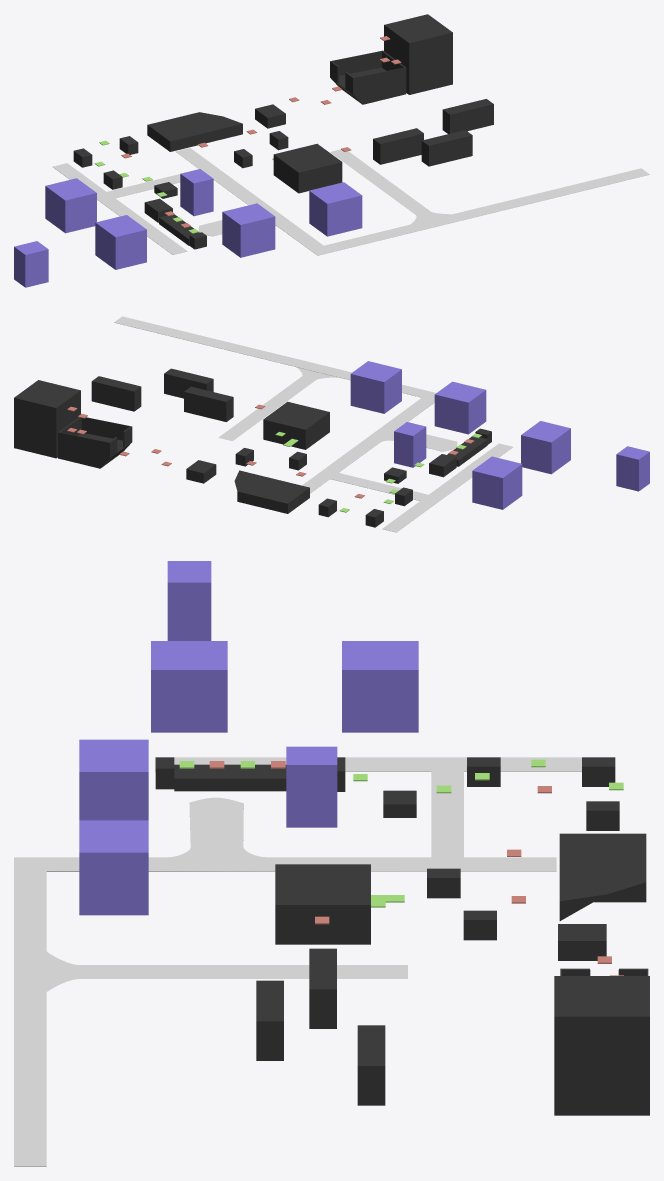
The model's file is Nivelul_@2.fbx.
3 renders of one model, top to bottom at view 1: azimuth 30°, elevation 25°; view 2: azimuth 150°, elevation 25°; view 3: azimuth 270°, elevation 25°, orthographic. The views are drawn at different scales.
Parts seen in each view (by area): view 1: Box036, Box035, Rectangle004, Box034, Box030, Box040, Box041, Box043, Box044, Rectangle002, Rectangle001, Rectangle005 (+9 smaller); view 2: Box036, Box035, Rectangle004, Rectangle002, Box034, Box040, Box041, Box044, Box043, Box030, Rectangle001, Rectangle005 (+9 smaller); view 3: Box036, Rectangle004, Rectangle002, Box034, Box043, Box044, Box041, Box030, Box040, Rectangle005, Box027, Rectangle001 (+13 smaller).
Part boxes in pixels (left/top/right/bottom): Box036: left=384, top=14, right=452, bottom=94; Box035: left=330, top=50, right=406, bottom=104; Rectangle004: left=324, top=168, right=649, bottom=251; Box034: left=273, top=143, right=342, bottom=193; Box030: left=147, top=112, right=242, bottom=151; Box040: left=222, top=203, right=275, bottom=257; Box041: left=309, top=182, right=362, bottom=236; Box043: left=95, top=215, right=146, bottom=269; Box044: left=45, top=178, right=96, bottom=233; Rectangle002: left=175, top=148, right=331, bottom=255; Rectangle001: left=52, top=163, right=187, bottom=254; Rectangle005: left=330, top=149, right=451, bottom=224; Box036: left=14, top=380, right=80, bottom=458; Box035: left=58, top=417, right=132, bottom=468; Rectangle004: left=114, top=316, right=429, bottom=397; Rectangle002: left=302, top=391, right=457, bottom=493; Box034: left=263, top=401, right=329, bottom=449; Box040: left=434, top=381, right=486, bottom=434; Box041: left=350, top=361, right=401, bottom=413; Box044: left=472, top=456, right=522, bottom=509; Box043: left=521, top=421, right=570, bottom=474; Box030: left=234, top=470, right=309, bottom=513; Rectangle001: left=382, top=443, right=512, bottom=532; Rectangle005: left=218, top=367, right=337, bottom=441; Box036: left=554, top=976, right=649, bottom=1115; Rectangle004: left=14, top=871, right=46, bottom=1166; Rectangle002: left=14, top=797, right=556, bottom=871; Box034: left=275, top=864, right=370, bottom=944; Box043: left=151, top=641, right=227, bottom=732; Box044: left=342, top=641, right=418, bottom=732; Box041: left=79, top=820, right=148, bottom=915; Box030: left=559, top=833, right=646, bottom=920; Box040: left=79, top=739, right=148, bottom=820; Rectangle005: left=46, top=951, right=407, bottom=992; Box027: left=286, top=746, right=337, bottom=827; Rectangle001: left=155, top=757, right=581, bottom=771.
Bounding box in the file's own units: 1045 × 88.75 × 517.
